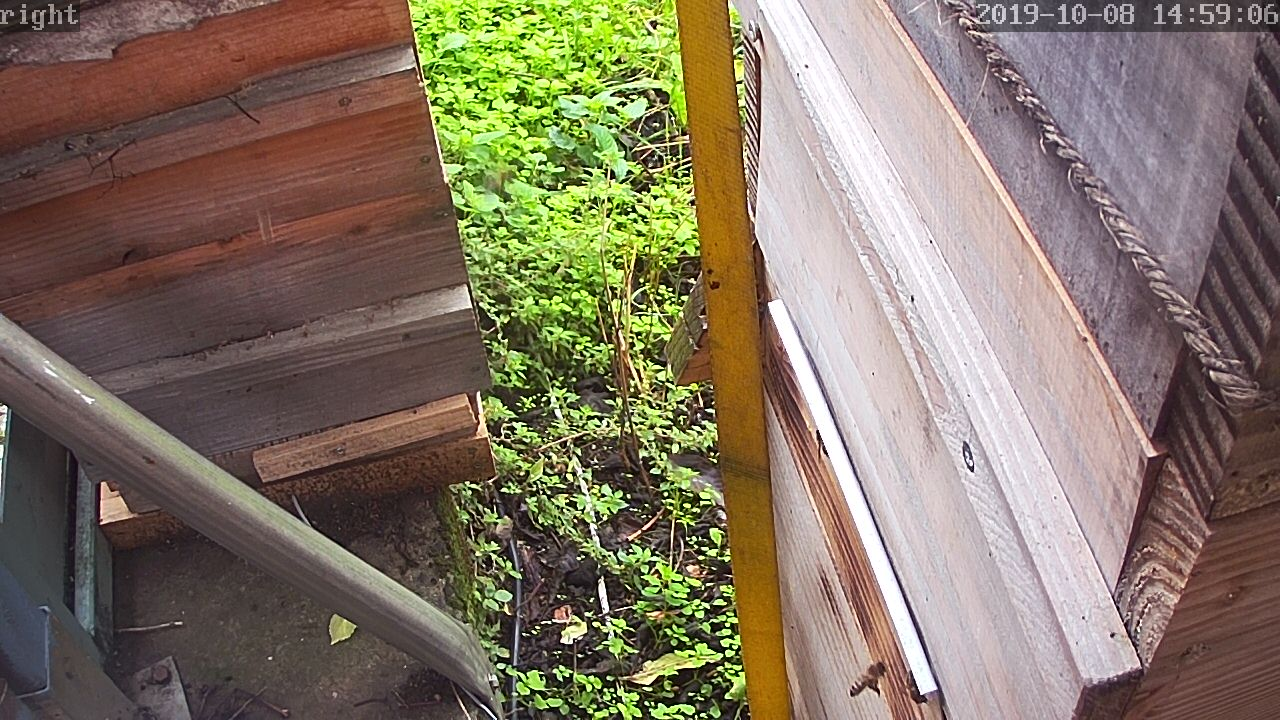bee: (848, 658, 893, 701), (899, 667, 931, 710), (803, 421, 833, 464)
